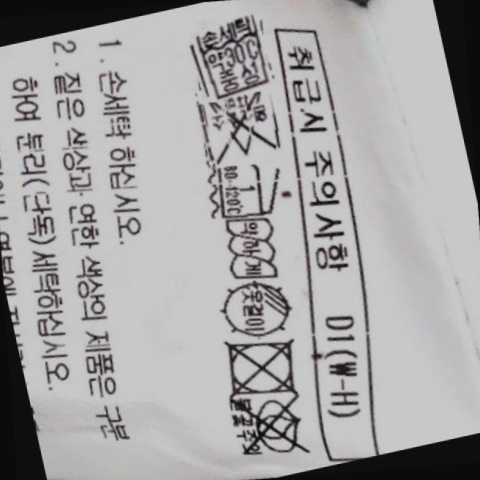DN_tumble_dry: (211, 326, 308, 408)
hand_wash: (185, 14, 278, 101)
iron_low: (206, 153, 286, 227)
line_dry_in_shade: (211, 273, 302, 345)
wring: (216, 211, 285, 289)
